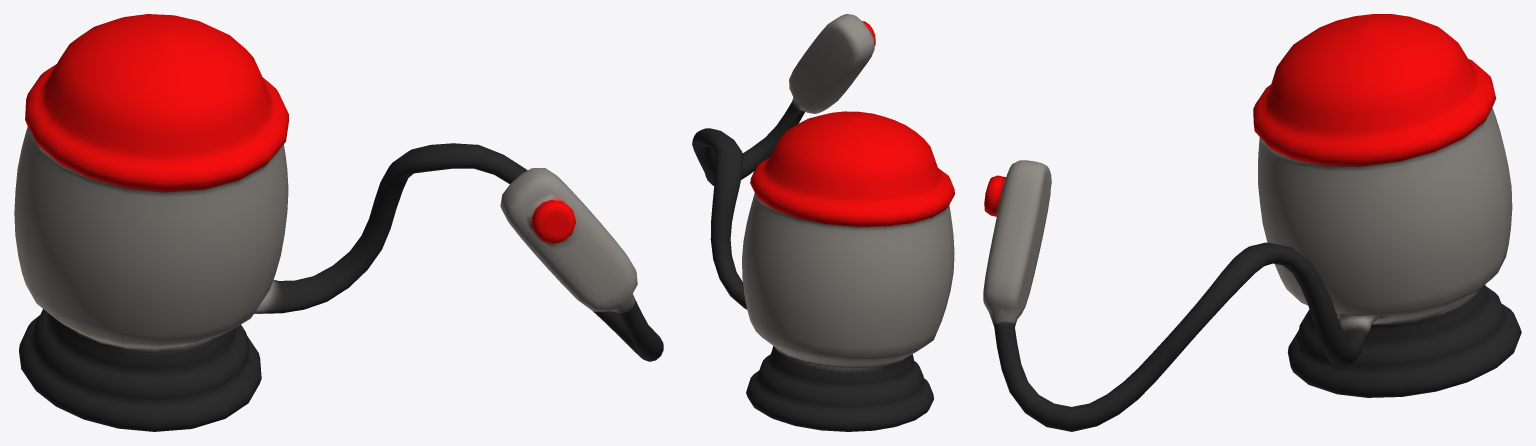
File: JetPack1.glb
The picture shows the model from 3 angles, left to right: view 1: azimuth 30°, elevation 25°; view 2: azimuth 150°, elevation 25°; view 3: azimuth 270°, elevation 25°; orthographic projection. The views are drawn at different scales.
Visible parts, largest first — view 1: JetPack1; view 2: JetPack1; view 3: JetPack1.
Boxes of the visible parts, x1=… form: JetPack1: x1=14, y1=14, x2=663, y2=431; JetPack1: x1=692, y1=14, x2=954, y2=431; JetPack1: x1=983, y1=14, x2=1521, y2=431.
Size of the model in its own units: 0.0124 by 0.00966 by 0.0139.
Materials: 1 (1 with a texture image).
